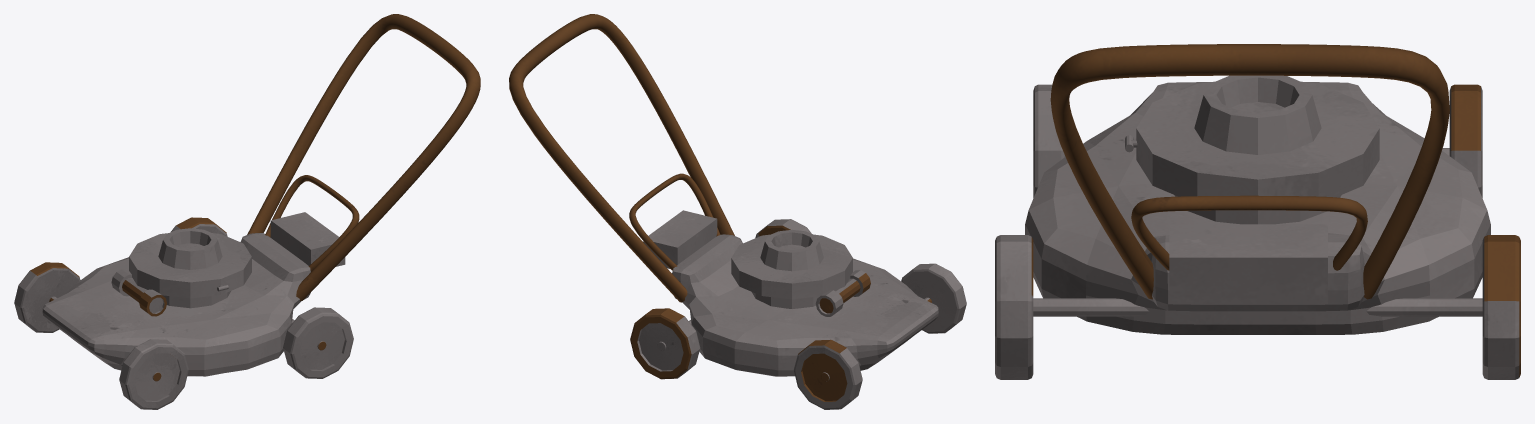
File: LawnMower.fbx
3 views of the same model, side by side, from view 1: azimuth 30°, elevation 25°; view 2: azimuth 150°, elevation 25°; view 3: azimuth 270°, elevation 25° (orthographic). The views are drawn at different scales.
Visible parts, largest first — view 1: Cylinder.012; view 2: Cylinder.012; view 3: Cylinder.012.
Part boxes in pixels (box(x1,y1,x2,y2)): Cylinder.012: box(14, 14, 480, 409); Cylinder.012: box(509, 14, 966, 409); Cylinder.012: box(995, 44, 1520, 379).
Bounding box in the file's own units: 3.09 × 1.97 × 1.88.
